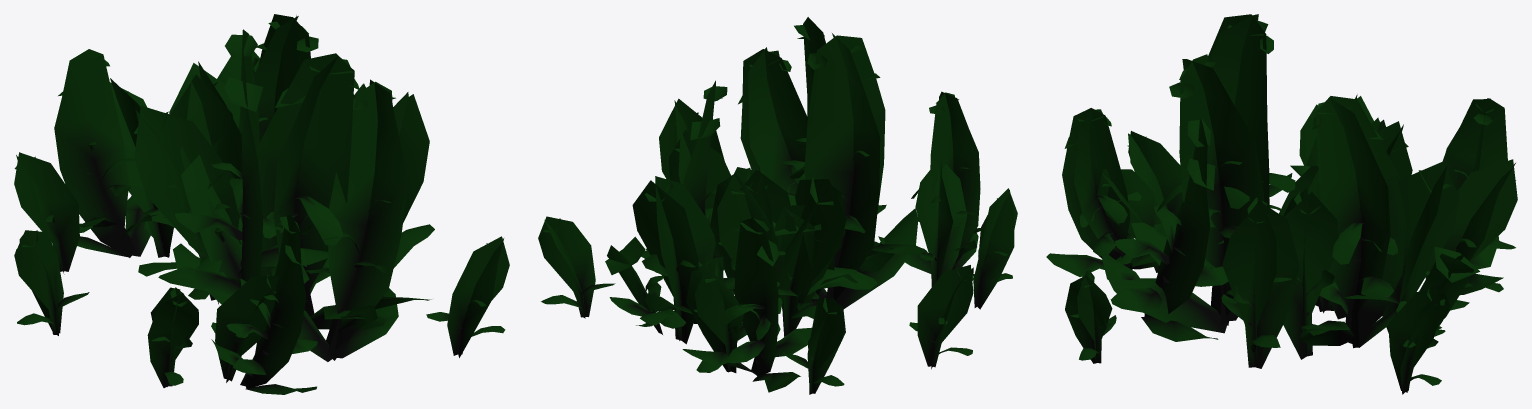
File: FlowersWhiteGCATA_D.fbx
The picture shows the model from 3 angles, left to right: view 1: azimuth 30°, elevation 25°; view 2: azimuth 150°, elevation 25°; view 3: azimuth 270°, elevation 25°; orthographic projection. The views are drawn at different scales.
Parts seen in each view (by area): view 1: FWGCATAD_LOD0; view 2: FWGCATAD_LOD0; view 3: FWGCATAD_LOD0.
Boxes of the visible parts, x1,y1,x2,y2 form: FWGCATAD_LOD0: (14, 14, 509, 394); FWGCATAD_LOD0: (538, 17, 1017, 394); FWGCATAD_LOD0: (1046, 14, 1517, 394).
Size of what is drawn, in the model's own units: 1.24 by 0.8702 by 1.27.
